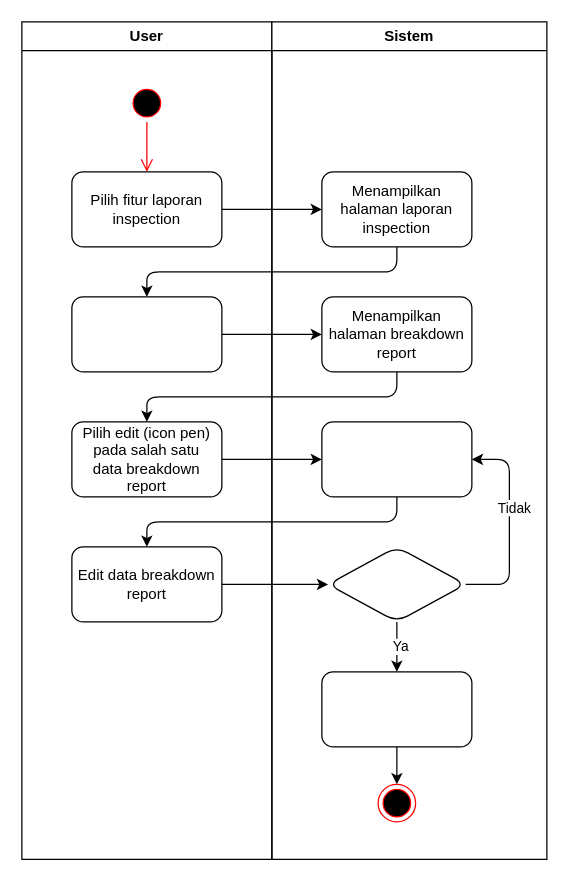
Some shapes in this 569 by 881 pixel diagram are drawn without their labels. The shapes that lost their labels are listed below. From the top down, each one's centre as x and y in pixels, then its label:
At (146,334): "Pilih detail (icon settings) pada salah satu data laporan inspection".
At (396,459): "Menampilkan halaman edit data breakdown report".
At (396,584): "Validasi data".
At (396,709): "Perubahan data berhasil tersimpan".
